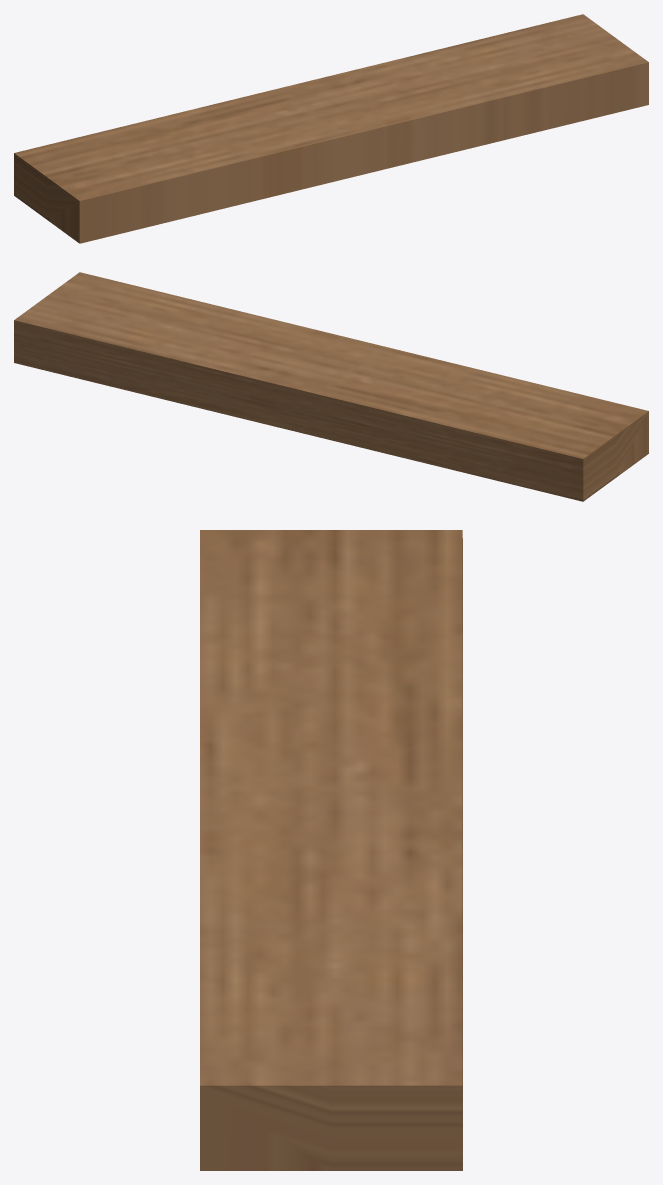
File: iç kapı girişi.fbx
3 renders of one model, top to bottom at view 1: azimuth 30°, elevation 25°; view 2: azimuth 150°, elevation 25°; view 3: azimuth 270°, elevation 25°, orthographic. The views are drawn at different scales.
Parts seen in each view (by area): view 1: Plane.083; view 2: Plane.083; view 3: Plane.083.
Part boxes in pixels (x1,y1,x2,y2): Plane.083: (14, 14, 648, 243); Plane.083: (14, 272, 648, 501); Plane.083: (200, 530, 462, 1170).
Bounding box in the file's own units: 200 × 14.33 × 40.02.
1 material, 1 textured.
